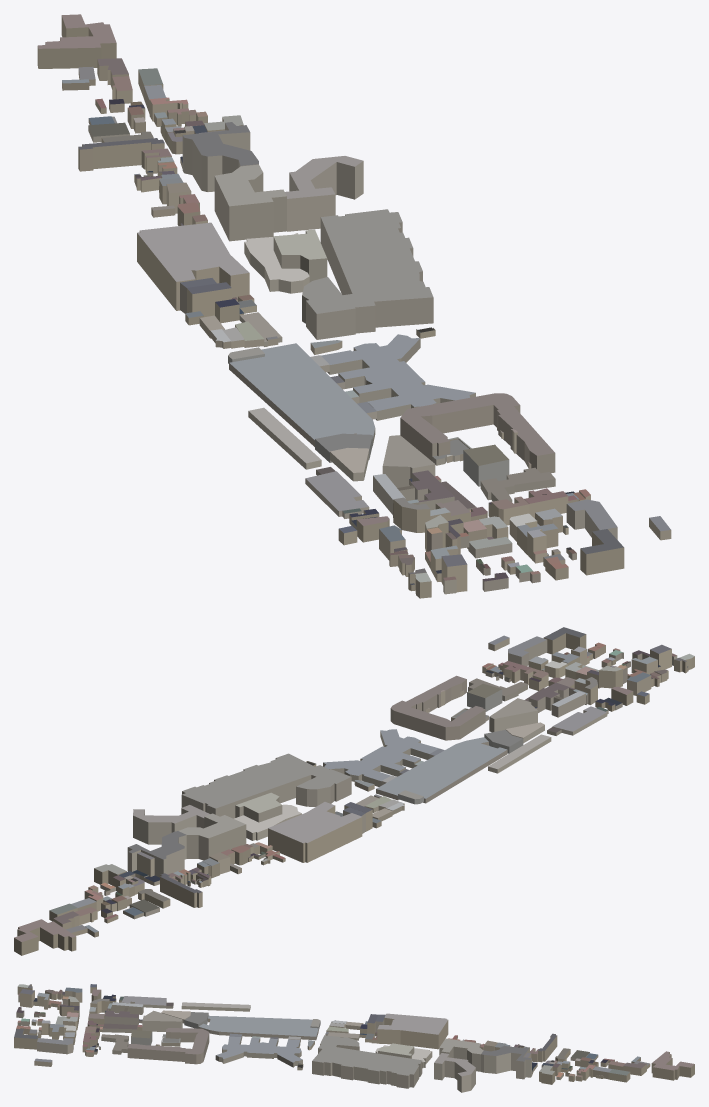
3 views of the same model, one above another, from view 1: azimuth 30°, elevation 25°; view 2: azimuth 150°, elevation 25°; view 3: azimuth 270°, elevation 25° (orthographic). The views are drawn at different scales.
Parts seen in each view (by area): view 1: tuile; view 2: tuile; view 3: tuile.
Boxes of the visible parts, box(x1,y1,x2,y2) form: tuile: box(37, 14, 671, 598); tuile: box(14, 627, 694, 955); tuile: box(14, 984, 694, 1092).
Bounding box in the file's own units: 331 × 32.21 × 999.
